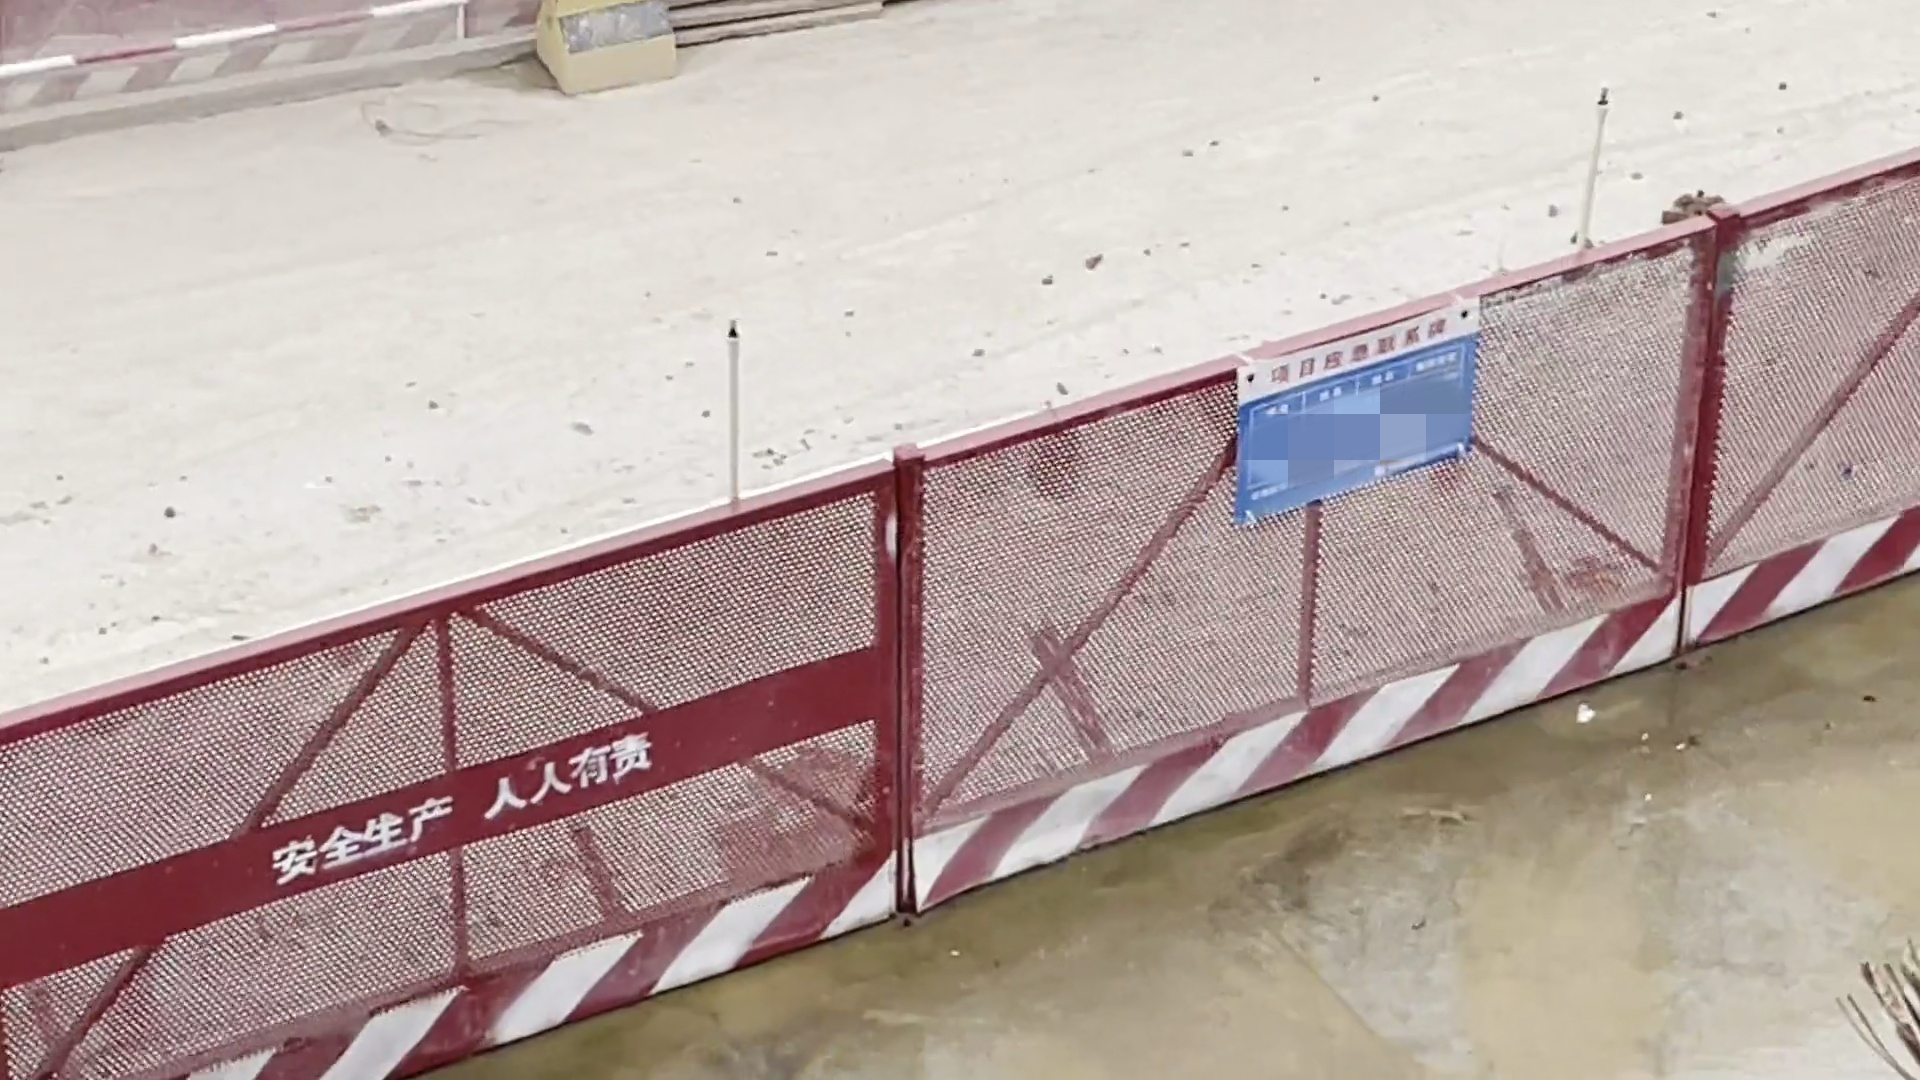fence: (105, 266, 1895, 1060)
slogan: (1225, 356, 1484, 467)
